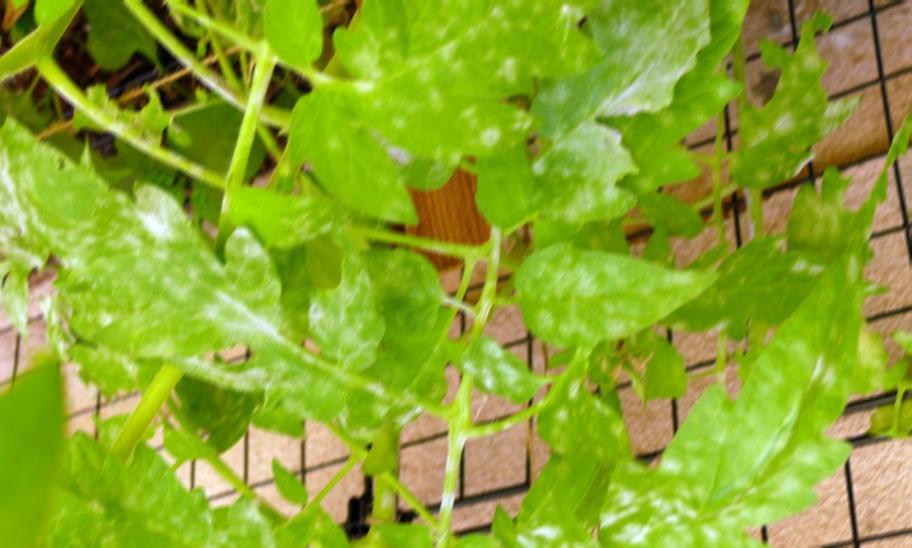Tomato mold leaf: (571, 123, 912, 548), (1, 112, 381, 423), (276, 0, 615, 226), (6, 448, 331, 548), (496, 246, 743, 351), (440, 333, 532, 404)
